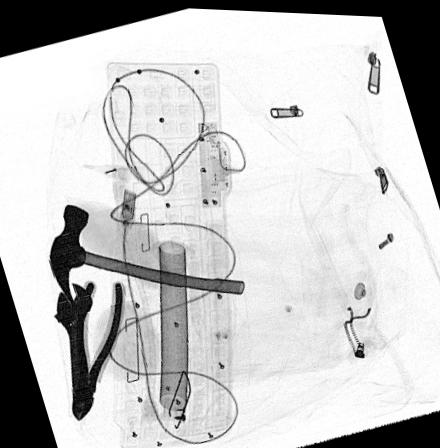Hammer: (47, 202, 246, 303)
Pliers: (73, 281, 124, 419)
Wrench: (55, 279, 94, 417)
